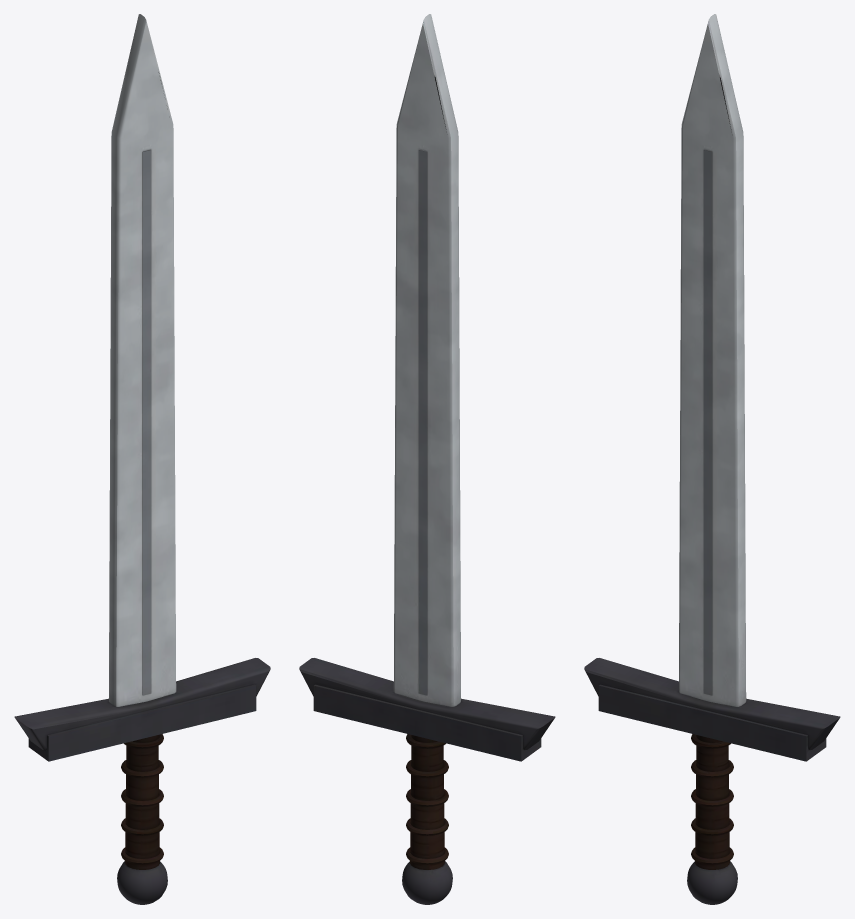
File: blade_steel.glb
3 renders of one model, left to right at view 1: azimuth 30°, elevation 25°; view 2: azimuth 150°, elevation 25°; view 3: azimuth 330°, elevation 25°, orthographic.
Parts seen in each view (by area): view 1: Blade_steel; view 2: Blade_steel; view 3: Blade_steel.
Part boxes in pixels (left/top/right/bottom): Blade_steel: left=14, top=14, right=270, bottom=904; Blade_steel: left=299, top=14, right=555, bottom=904; Blade_steel: left=584, top=14, right=840, bottom=904.
Size of the model in its own units: 0.3518 by 1.22 by 0.064.
1 material, 1 textured.
